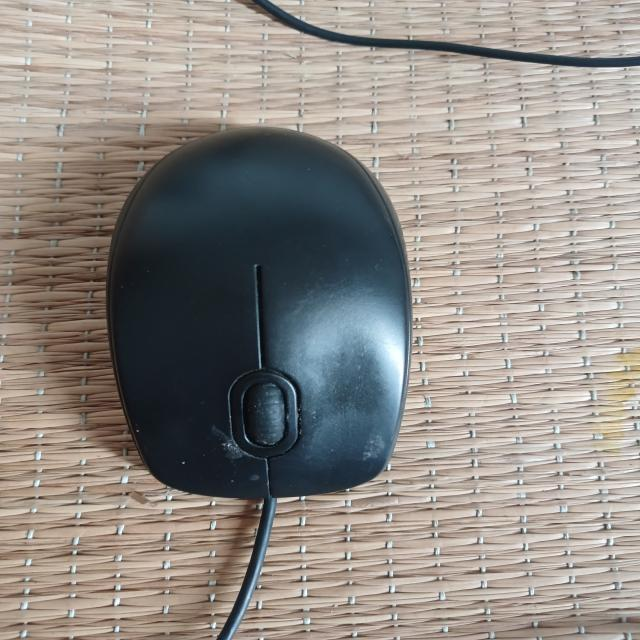mouse: (92, 118, 425, 497)
